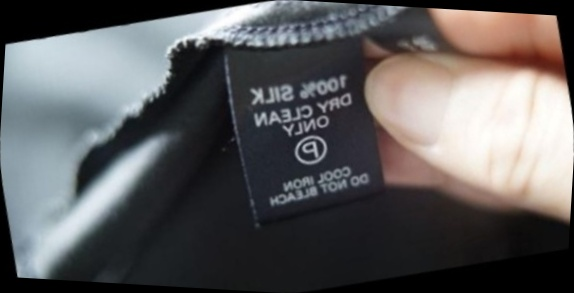dry_clean_any_solvent_except_trichloroethylene: (285, 126, 334, 173)
